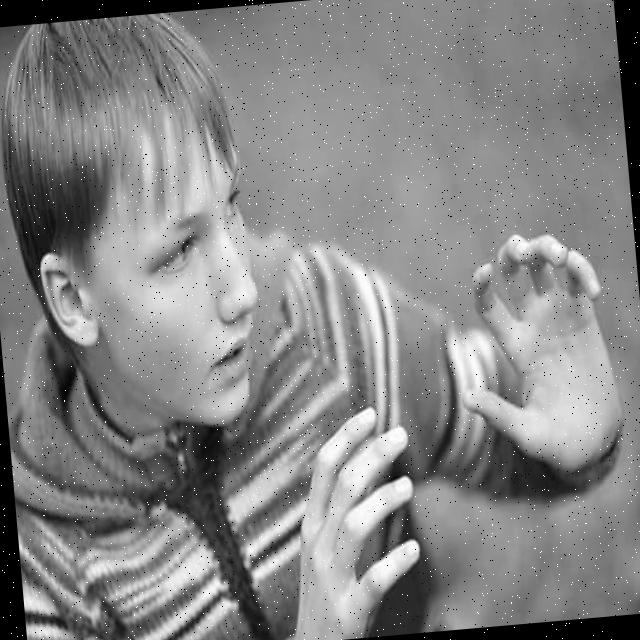Fear: (96, 122, 272, 433)
